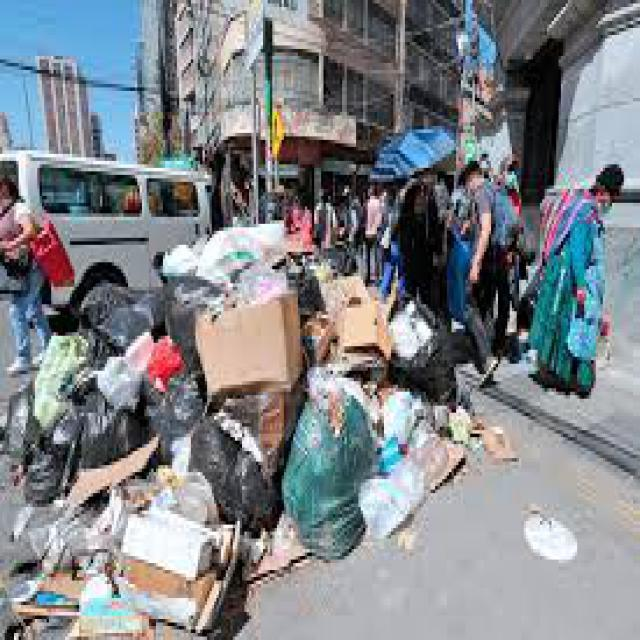Trashbag: (71, 276, 153, 347), (190, 424, 255, 499), (80, 394, 130, 458), (21, 451, 79, 501), (160, 273, 200, 335), (408, 343, 458, 392), (145, 376, 195, 424)
